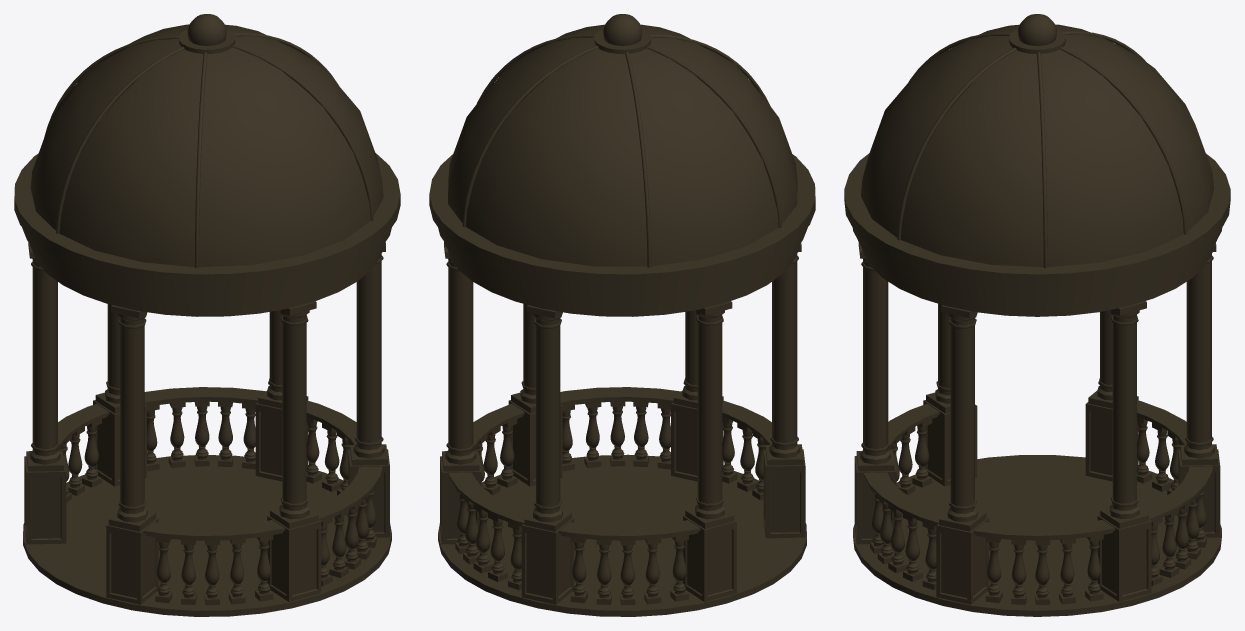
Rendered from gazebo.glb.
3 renders of one model, left to right at view 1: azimuth 30°, elevation 25°; view 2: azimuth 150°, elevation 25°; view 3: azimuth 270°, elevation 25°, orthographic.
Visible parts, largest first — view 1: SM_Gazebo_0; view 2: SM_Gazebo_0; view 3: SM_Gazebo_0.
Part boxes in pixels (<box>): SM_Gazebo_0: <box>14,14,400,616</box>; SM_Gazebo_0: <box>429,14,815,616</box>; SM_Gazebo_0: <box>844,14,1230,616</box>.
Size of the model in its own units: 321 by 481 by 321.
1 material, 1 textured.
